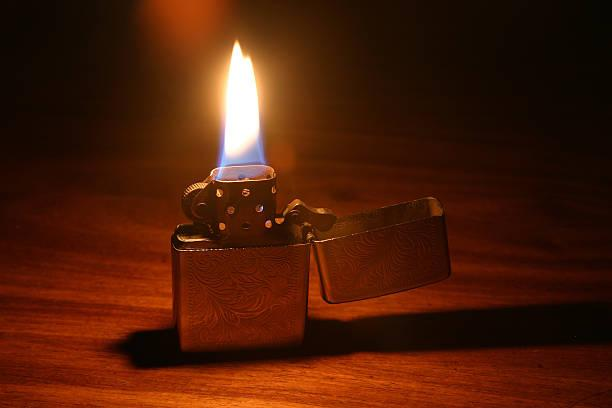Fire: (216, 37, 274, 179)
